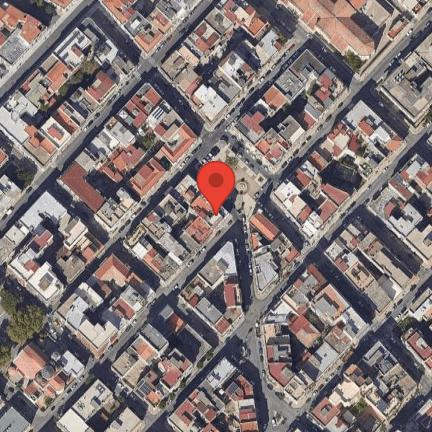area_open: (190, 141, 269, 223), (199, 30, 262, 78), (0, 23, 35, 91), (228, 319, 264, 384), (255, 384, 301, 432), (352, 11, 402, 52), (154, 318, 196, 362), (39, 219, 64, 286), (88, 282, 126, 325), (171, 190, 197, 247), (351, 245, 383, 281), (322, 162, 364, 189), (134, 413, 181, 432), (89, 406, 125, 429), (91, 172, 115, 196), (358, 146, 382, 169), (262, 106, 287, 128), (351, 414, 379, 432), (362, 362, 379, 385), (412, 194, 429, 215), (24, 113, 49, 127), (421, 316, 432, 347), (210, 289, 225, 310), (134, 0, 152, 14), (293, 338, 304, 359), (413, 70, 429, 84), (273, 253, 286, 270)
built: (59, 84, 200, 230), (0, 17, 137, 166), (271, 100, 406, 239), (162, 1, 286, 124), (261, 262, 368, 401), (0, 191, 104, 307), (232, 49, 324, 166), (57, 255, 158, 358), (324, 218, 421, 314), (110, 322, 194, 408), (368, 155, 432, 264), (169, 357, 260, 431), (279, 0, 390, 58), (3, 338, 85, 412), (179, 241, 243, 334), (125, 193, 190, 281), (341, 343, 416, 418), (101, 0, 203, 54), (377, 32, 432, 124), (85, 139, 165, 202), (174, 174, 230, 255), (57, 380, 142, 432), (250, 210, 299, 294), (159, 305, 212, 363), (307, 380, 361, 432), (304, 69, 351, 128), (0, 0, 47, 46), (404, 329, 432, 371), (399, 399, 432, 432), (0, 176, 22, 215), (0, 407, 33, 432), (408, 289, 432, 322), (222, 276, 241, 308), (378, 275, 403, 299), (386, 16, 409, 40), (399, 0, 429, 14), (102, 397, 120, 416), (50, 0, 72, 11), (1, 148, 8, 165)
vegetation_high: (0, 270, 48, 372)
vegetation_low: (40, 55, 101, 116), (295, 307, 335, 366), (119, 136, 162, 187), (3, 0, 64, 28), (6, 159, 36, 191), (34, 328, 62, 361), (341, 50, 364, 73), (393, 316, 415, 335), (291, 93, 308, 114), (353, 401, 370, 416)
